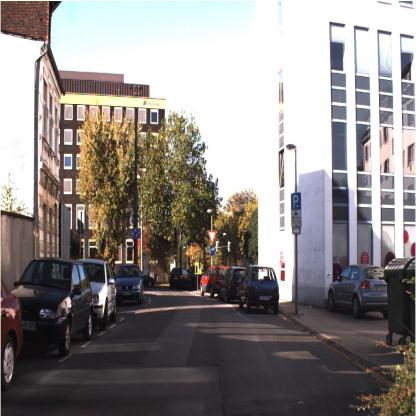give way: (207, 230, 216, 244)
go right or straight: (209, 244, 215, 256)
